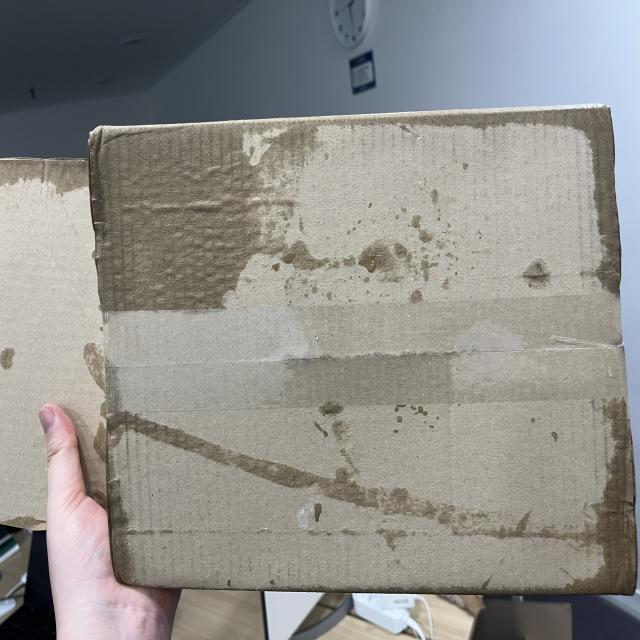wet: (93, 127, 316, 312)
